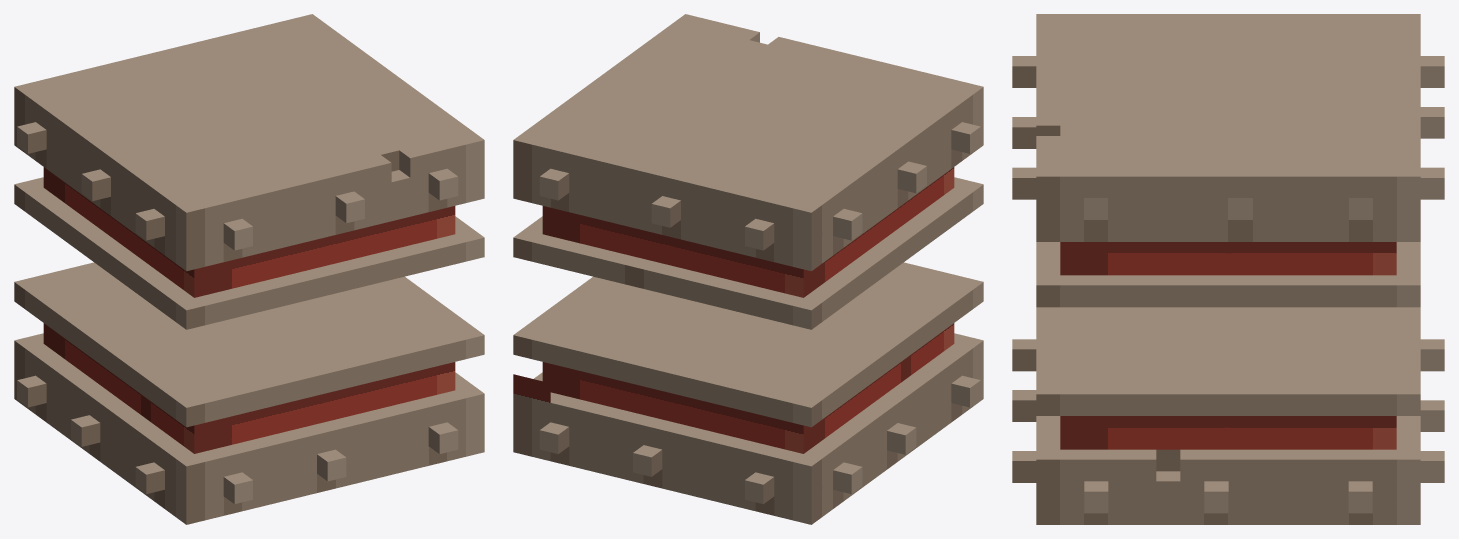
Rendered from pivot_baseao.fezao.glb.
3 views of the same model, side by side, from view 1: azimuth 30°, elevation 25°; view 2: azimuth 150°, elevation 25°; view 3: azimuth 270°, elevation 25° (orthographic). The views are drawn at different scales.
Parts seen in each view (by area): view 1: PIVOT_BASEAO; view 2: PIVOT_BASEAO; view 3: PIVOT_BASEAO.
Part boxes in pixels (<box>): PIVOT_BASEAO: <box>14,14,484,524</box>; PIVOT_BASEAO: <box>513,14,983,524</box>; PIVOT_BASEAO: <box>1012,14,1444,524</box>.
Bounding box in the file's own units: 1.12 × 1 × 1.12.
1 material, 1 textured.
